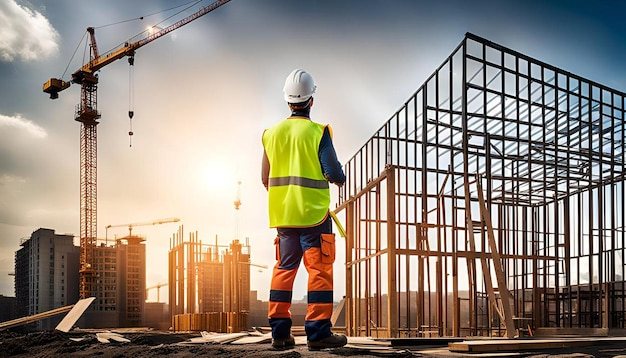jacket: (252, 121, 348, 232)
white_hat: (276, 65, 319, 100)
